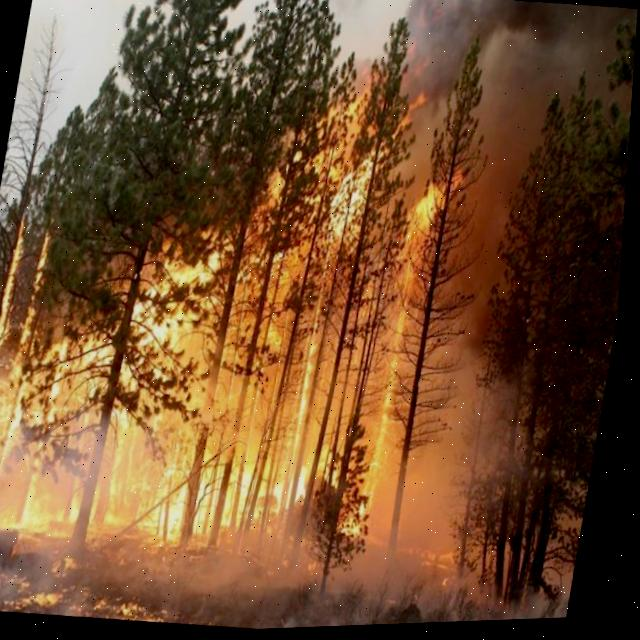fire: (0, 11, 633, 631)
smoke: (329, 0, 638, 551), (21, 0, 66, 67)
